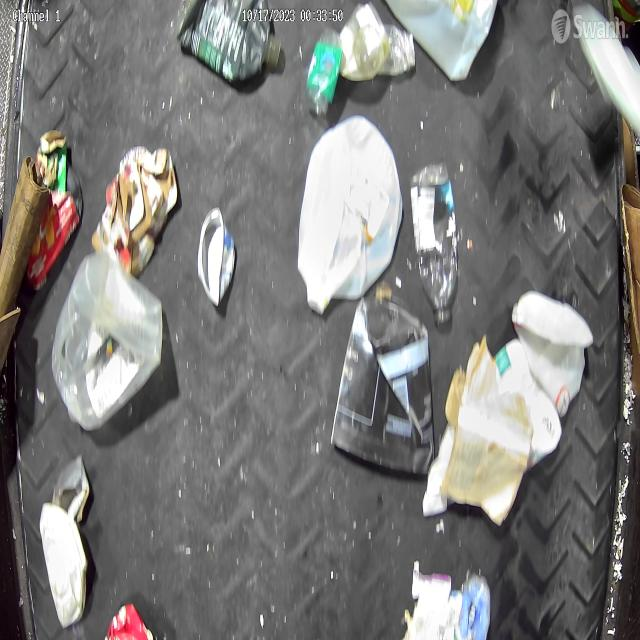milk_jug: (298, 119, 404, 308), (53, 251, 163, 431), (512, 291, 594, 417), (383, 0, 498, 80), (39, 502, 88, 628)
non_white_jug: (330, 298, 434, 476), (105, 602, 153, 640)
plastic_bottle: (412, 161, 461, 327)
